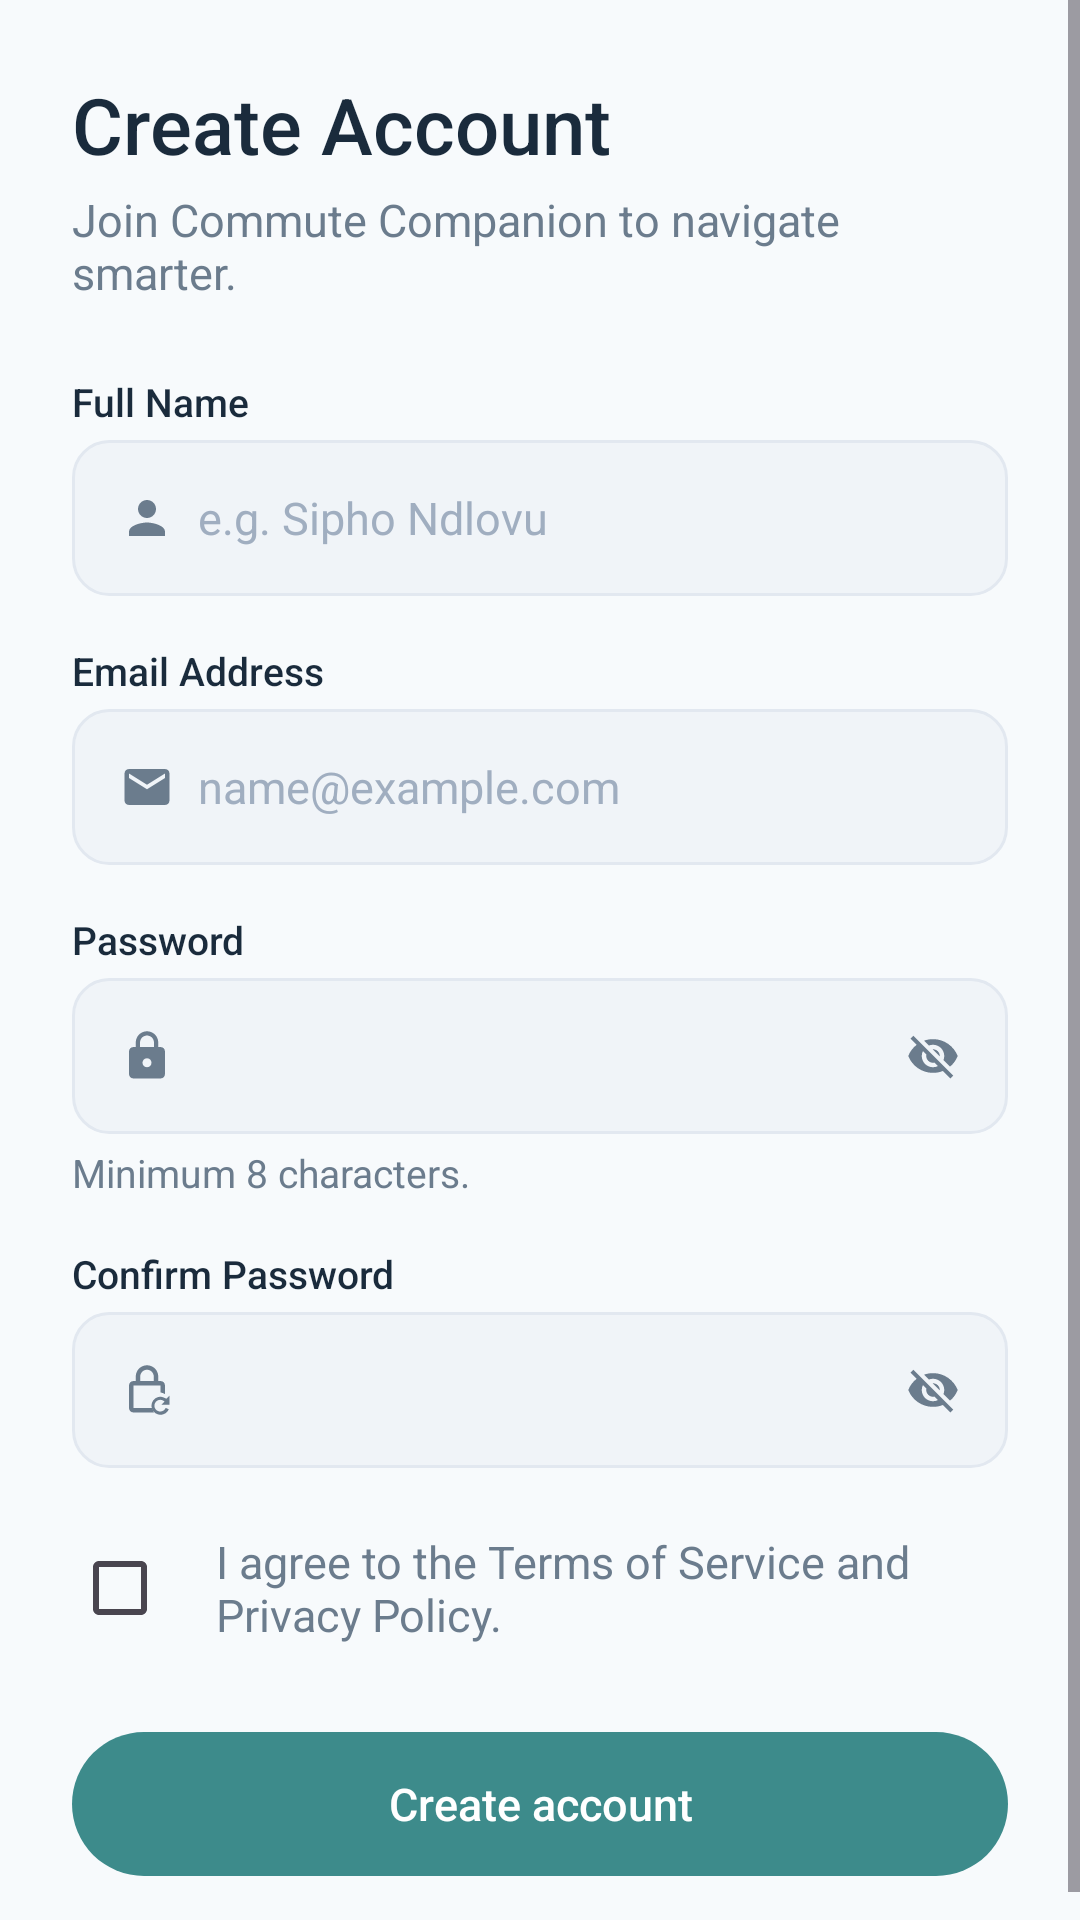

Point at icon controls on the screen. Image size 1080x1920, points as point (x, y).
lock: point (147, 1055)
lock reset: point (149, 1390)
person: point (147, 518)
visibility off: point (933, 1057), point (933, 1391)
